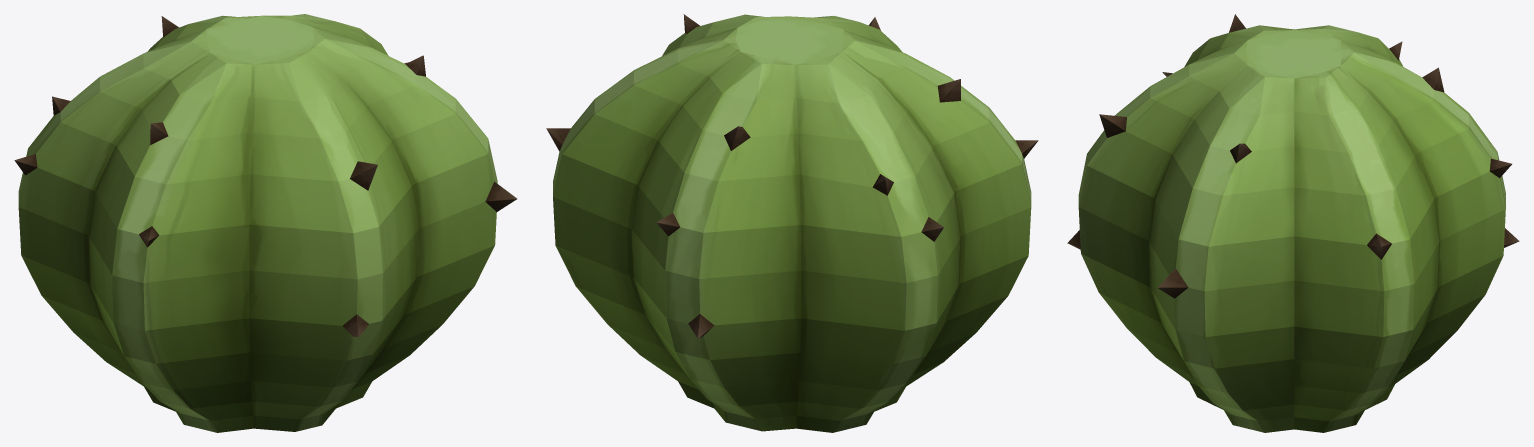
File: 선인장2.FBX
The picture shows the model from 3 angles, left to right: view 1: azimuth 30°, elevation 25°; view 2: azimuth 150°, elevation 25°; view 3: azimuth 270°, elevation 25°; orthographic projection. The views are drawn at different scales.
Parts seen in each view (by area): view 1: Star001; view 2: Star001; view 3: Star001.
Part boxes in pixels (left/top/right/bottom): Star001: left=14, top=14, right=517, bottom=432; Star001: left=546, top=14, right=1038, bottom=432; Star001: left=1067, top=14, right=1519, bottom=432.
Size of the model in its own units: 120 by 101 by 123.
Materials: 1 (1 with a texture image).
